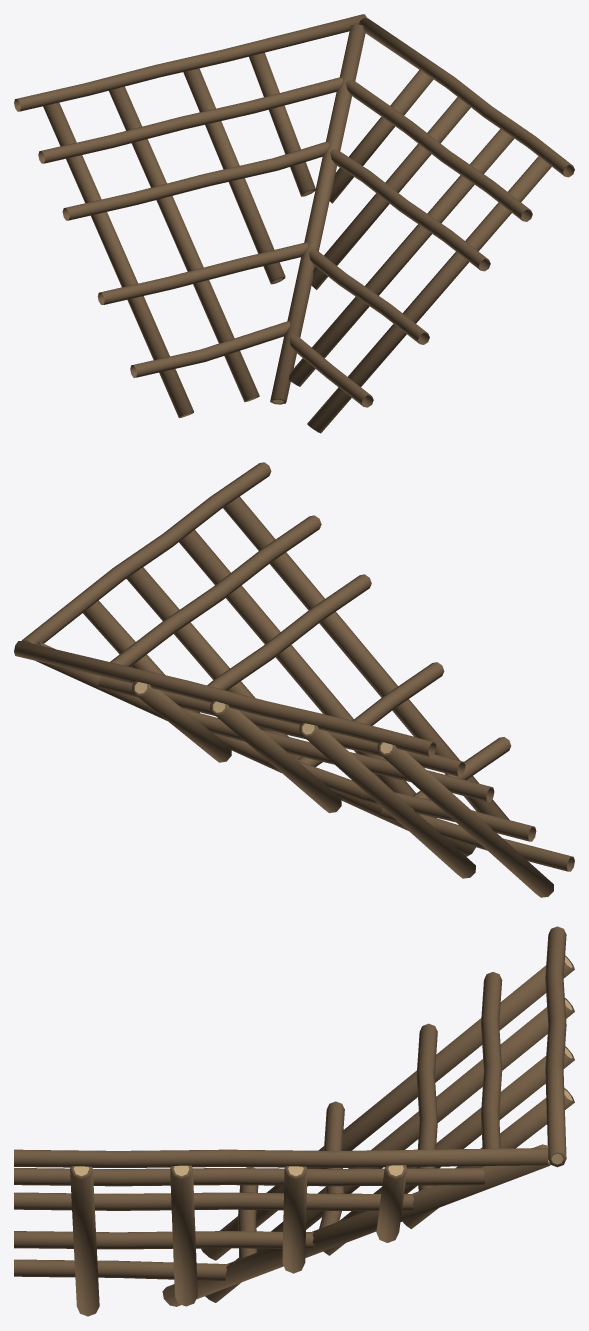
File: rpgpp_ag_roof_support_01_9x4x3_corner_a.fbx
The picture shows the model from 3 angles, top to bottom: view 1: azimuth 30°, elevation 25°; view 2: azimuth 150°, elevation 25°; view 3: azimuth 270°, elevation 25°; orthographic projection. The views are drawn at different scales.
Parts seen in each view (by area): view 1: rpgpp_ag_roof_support_01_9x4x3_corner_a; view 2: rpgpp_ag_roof_support_01_9x4x3_corner_a; view 3: rpgpp_ag_roof_support_01_9x4x3_corner_a.
Part boxes in pixels (<box>): rpgpp_ag_roof_support_01_9x4x3_corner_a: <box>14,14,574,433</box>; rpgpp_ag_roof_support_01_9x4x3_corner_a: <box>14,462,574,897</box>; rpgpp_ag_roof_support_01_9x4x3_corner_a: <box>14,926,574,1316</box>.
Bounding box in the file's own units: 7.66 × 4.77 × 7.85.
